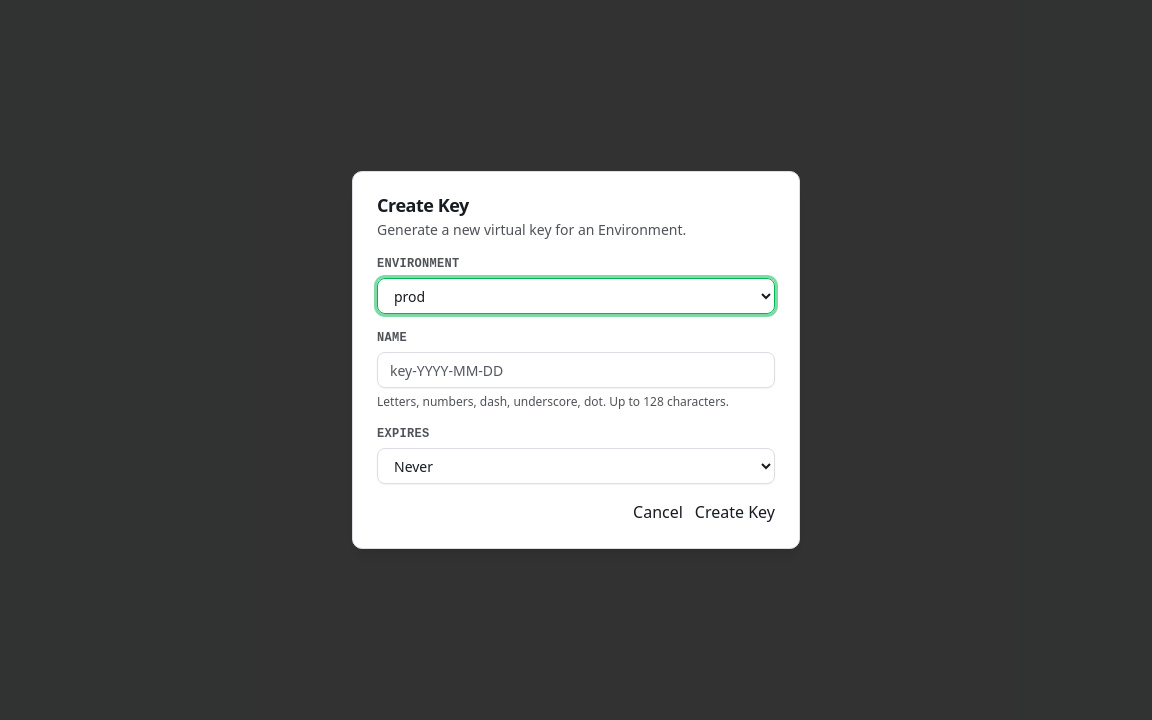
Test case: CreateKeyModal — form view › leaves the key limit to the server: submits even when bootstrap says exhausted
Type "my-key" into the field labelled "name" at (576, 370), box [377, 352, 775, 388]
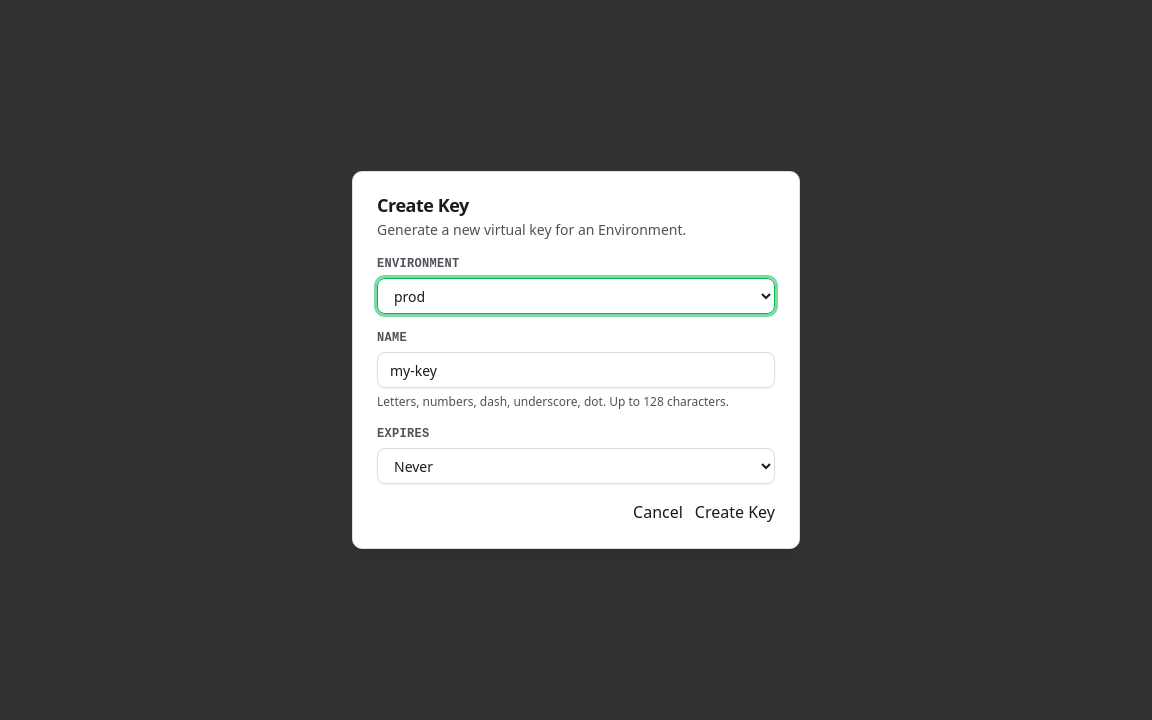
Click the button "Create Key" at (735, 512), box [695, 500, 775, 524]
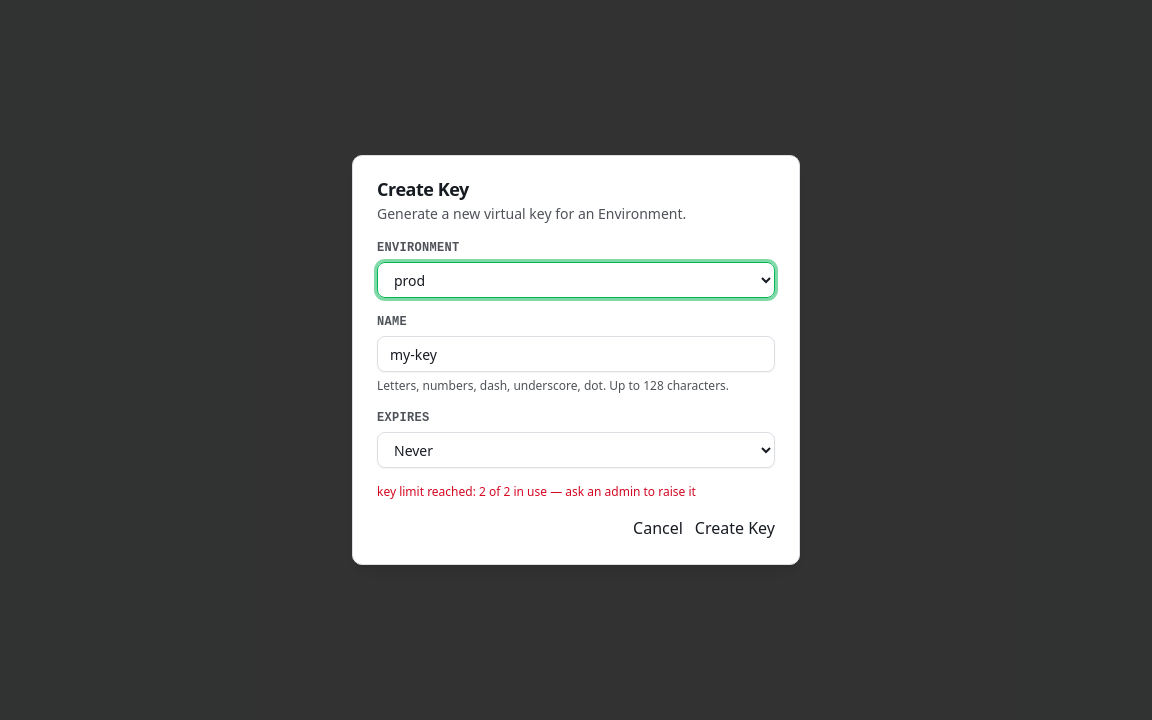
expect the text "key limit reached: 2 of 2 in use — ask an admin to raise it" is shown: met, box [377, 483, 696, 500]
